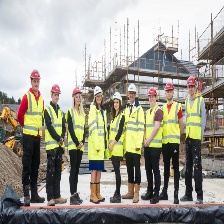helmet: (164, 77, 177, 94), (30, 69, 43, 83), (184, 77, 198, 90), (92, 85, 103, 99), (50, 83, 61, 96), (145, 87, 158, 98), (126, 84, 137, 95), (72, 88, 81, 100), (112, 93, 122, 103)
person: (13, 65, 46, 207), (43, 84, 70, 200), (83, 84, 108, 208), (182, 75, 206, 203), (161, 80, 183, 204), (123, 81, 145, 202), (142, 89, 164, 204), (67, 87, 85, 205), (106, 90, 123, 197)
vest: (123, 99, 145, 158), (88, 103, 108, 165), (182, 92, 206, 141), (24, 88, 45, 141), (45, 96, 65, 151), (161, 98, 182, 147), (144, 101, 163, 154), (66, 104, 86, 154), (109, 109, 126, 158)
